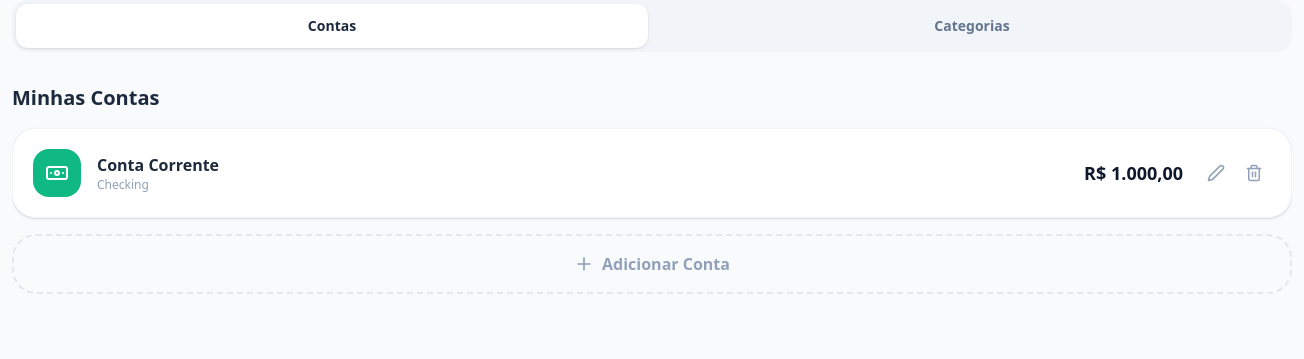
ManageView › switches to categories tab when clicked
Step 1. Click the button "Categorias" → click(972, 26), box top-left (656, 4), bottom-right (1288, 48)
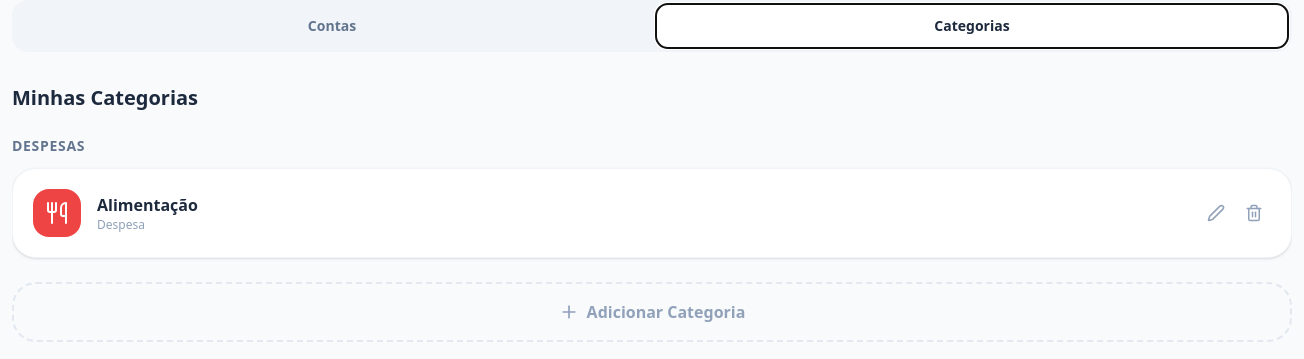
Check: the heading "Minhas Categorias" is shown, box top-left (12, 84), bottom-right (198, 111)
